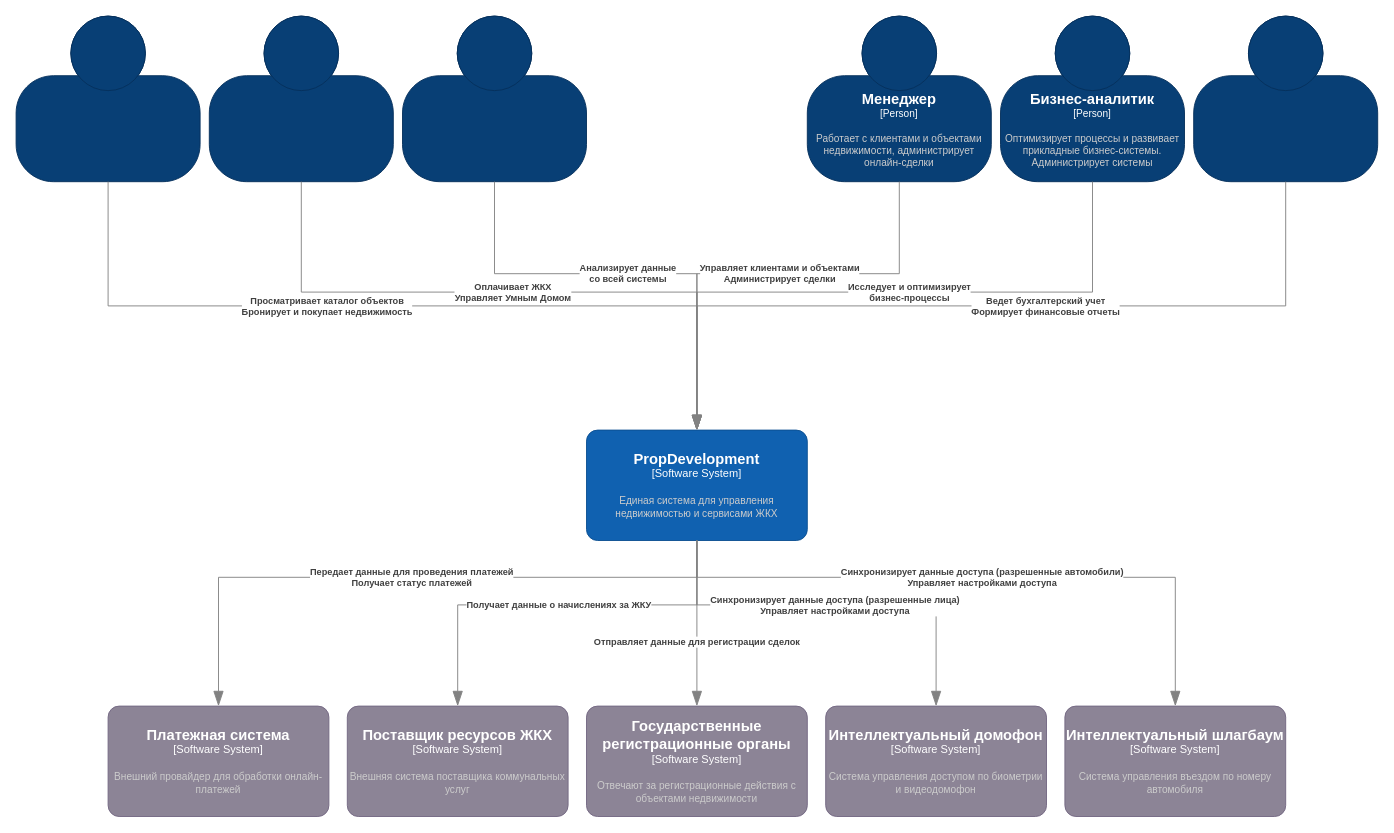
This 1394x833 diagram has some shape labels left out. Here are the shapes that lost their labels. From the top down, the centre of each, then its label:
[107,98]: Клиент [Person] Покупает и бронирует объекты недвижимости
[300,98]: Собственник [Person] Владелец недвижимости, использует сервисы ЖКХ
[494,98]: Аналитик BI [Person] Анализирует данные и готовит отчётность
[1285,98]: Бухгалтер [Person] Ведёт бухгалтерский учёт
